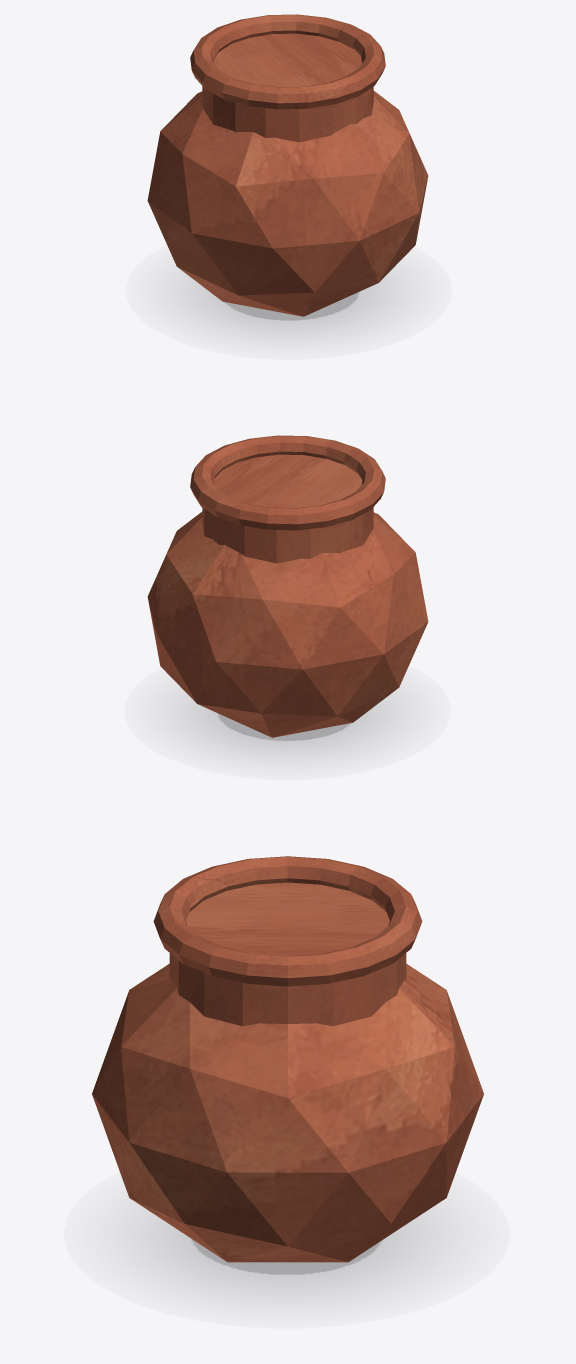
The model's file is pot-small.glb.
3 views of the same model, one above another, from view 1: azimuth 30°, elevation 25°; view 2: azimuth 150°, elevation 25°; view 3: azimuth 270°, elevation 25° (orthographic). The views are drawn at different scales.
Parts seen in each view (by area): view 1: belly, neck, rim, ContactShadow; view 2: belly, neck, rim, ContactShadow; view 3: belly, neck, rim, ContactShadow.
Part boxes in pixels (box(x1,y1,x2,y2)): belly: box(147, 91, 428, 316); neck: box(202, 33, 373, 142); rim: box(190, 14, 385, 109); ContactShadow: box(201, 285, 376, 327); belly: box(147, 512, 428, 737); neck: box(202, 454, 373, 563); rim: box(190, 435, 385, 530); ContactShadow: box(200, 706, 375, 747); belly: box(92, 963, 483, 1262); neck: box(169, 882, 406, 1026); rim: box(153, 856, 422, 986); ContactShadow: box(168, 1226, 405, 1284).
Bounding box in the file's own units: 0.589 × 0.4075 × 0.589.
Materials: 3 (2 with a texture image).
